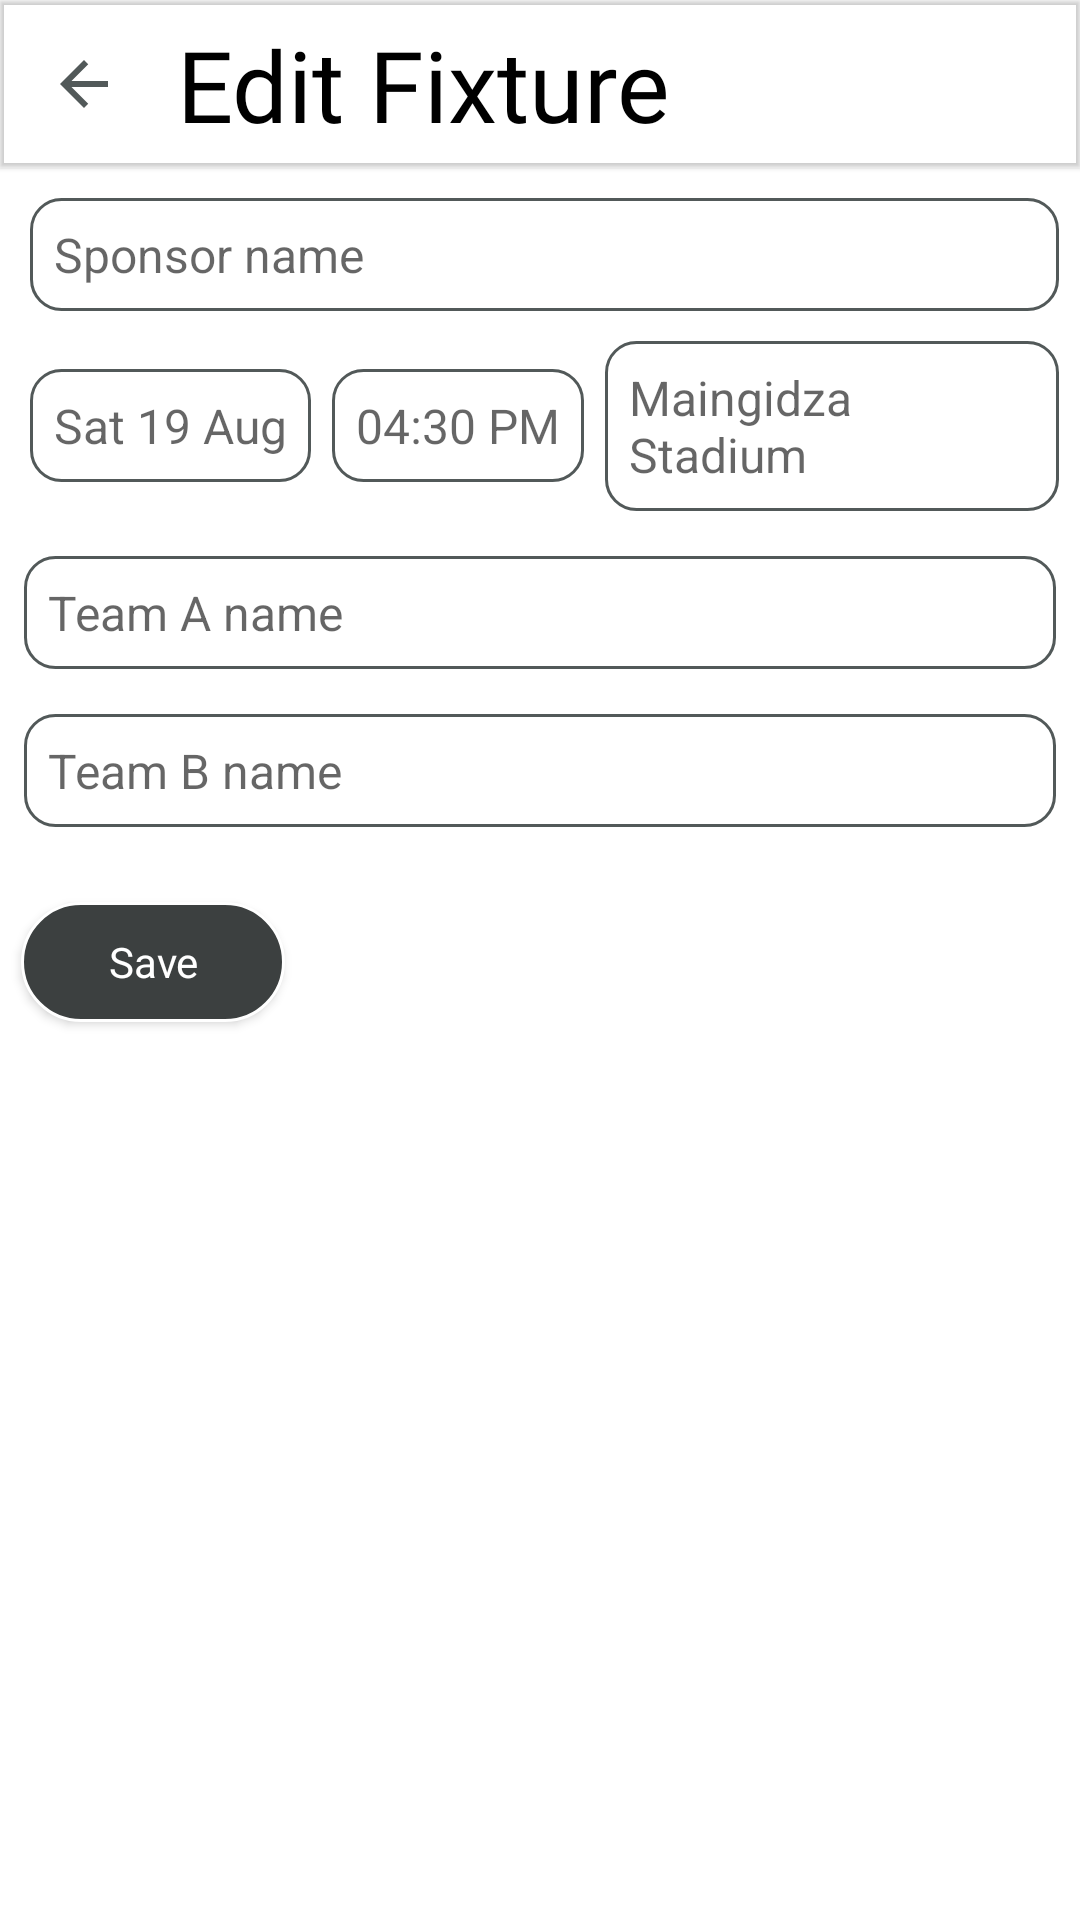

Point at icon controls on the screen. Image size 1080x1920, points as point (x, y).
arrow back: point (84, 84)
